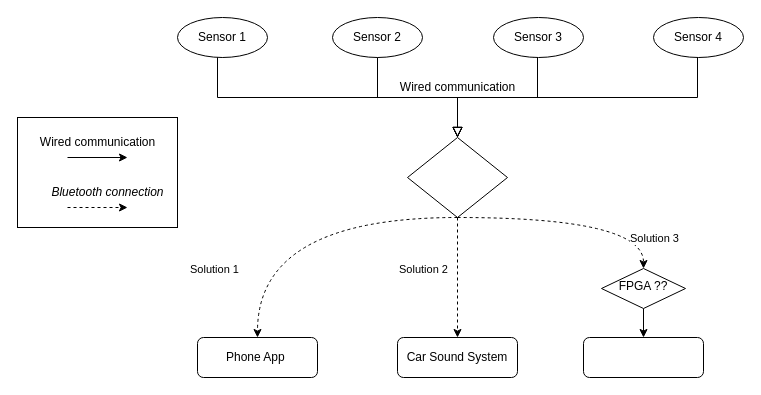
Image size: 761x395. Some labels were removed from this diagram. The shapes that lost their labels are listed below. From the top down, each one's centre as x and y in pixels, then its label:
At point (457, 177): "Microcontroller".
At point (643, 357): "Monitor".
